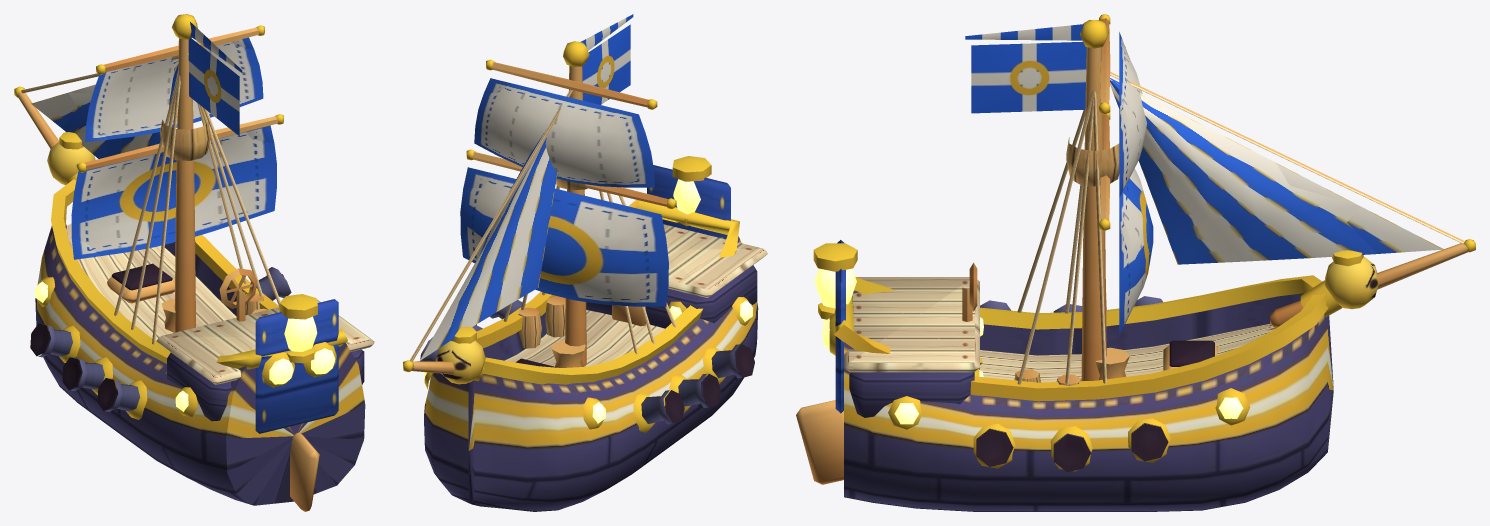
File: enemy_sloop.glb
3 views of the same model, side by side, from view 1: azimuth 30°, elevation 25°; view 2: azimuth 150°, elevation 25°; view 3: azimuth 270°, elevation 25° (orthographic). The views are drawn at different scales.
Parts seen in each view (by area): view 1: Hull, Sail0_0, Rigging, Sail0_1, Guns0, Flag, Jib; view 2: Hull, Sail0_0, Sail0_1, Jib, Rigging, Guns0, Flag; view 3: Hull, Jib, Rigging, Flag, Guns0, Sail0_0, Sail0_1.
Part boxes in pixels (box(x1,y1,x2,y2)): Hull: box(35, 132, 374, 511); Sail0_0: box(71, 125, 276, 259); Rigging: box(14, 14, 283, 344); Sail0_1: box(85, 37, 263, 141); Guns0: box(30, 267, 291, 411); Flag: box(188, 22, 242, 135); Jib: box(31, 60, 178, 158); Hull: box(423, 156, 767, 511); Sail0_0: box(460, 167, 668, 306); Sail0_1: box(474, 78, 654, 187); Jib: box(420, 97, 569, 360); Rigging: box(403, 41, 676, 374); Guns0: box(420, 300, 754, 424); Flag: box(581, 14, 633, 104); Hull: box(796, 240, 1378, 511); Jib: box(1110, 77, 1444, 264); Rigging: box(1017, 14, 1475, 385); Flag: box(965, 24, 1086, 113); Guns0: box(976, 296, 1168, 471); Sail0_0: box(1119, 168, 1153, 334); Sail0_1: box(1119, 32, 1147, 197).
Size of the model in its own units: 1.61 by 2.47 by 3.26.
8 materials, 8 textured.
